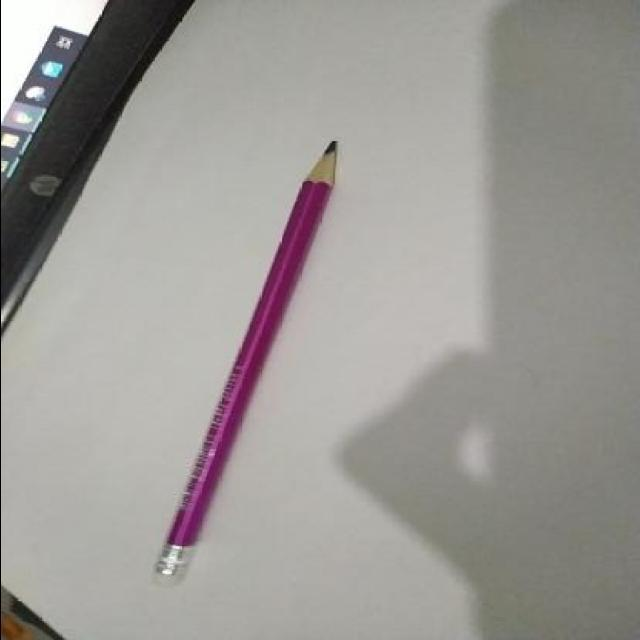pencil: (291, 133, 358, 195)
